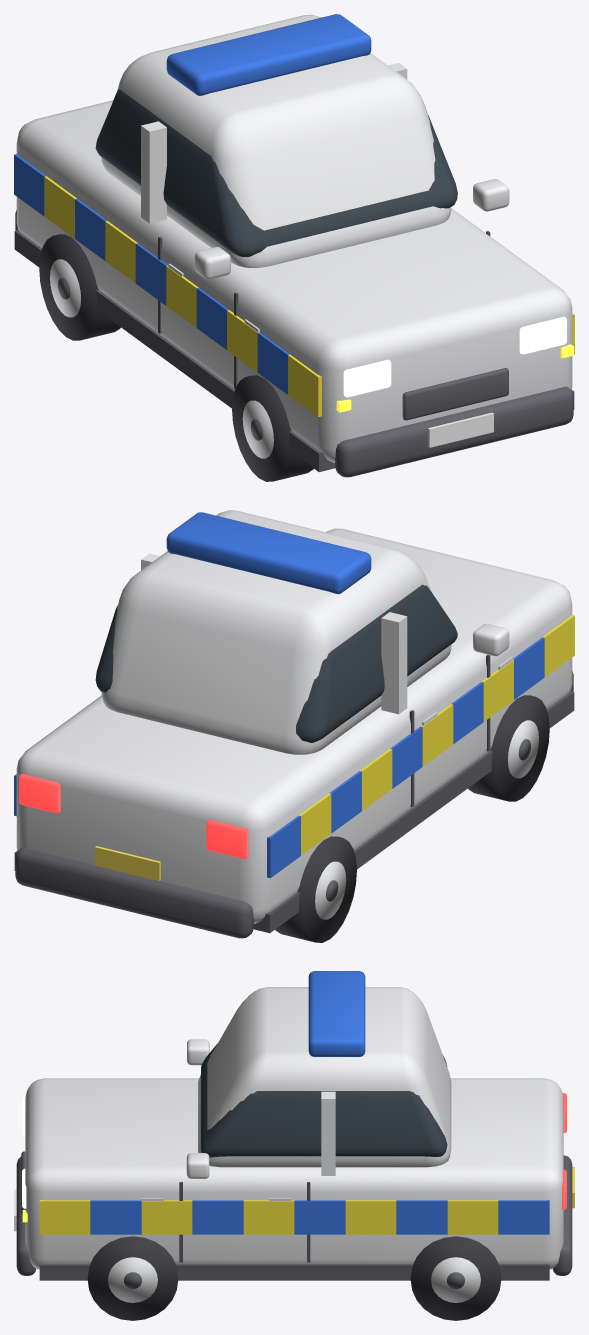
Rendered from police.glb.
3 views of the same model, one above another, from view 1: azimuth 30°, elevation 25°; view 2: azimuth 150°, elevation 25°; view 3: azimuth 270°, elevation 25° (orthographic). The views are drawn at different scales.
Visible parts, largest first — view 1: police; view 2: police; view 3: police.
Part boxes in pixels (x1,y1,x2,y2): police: [14, 14, 574, 481]; police: [14, 510, 574, 942]; police: [14, 971, 574, 1320].
Bounding box in the file's own units: 1.04 × 1.02 × 1.98.
